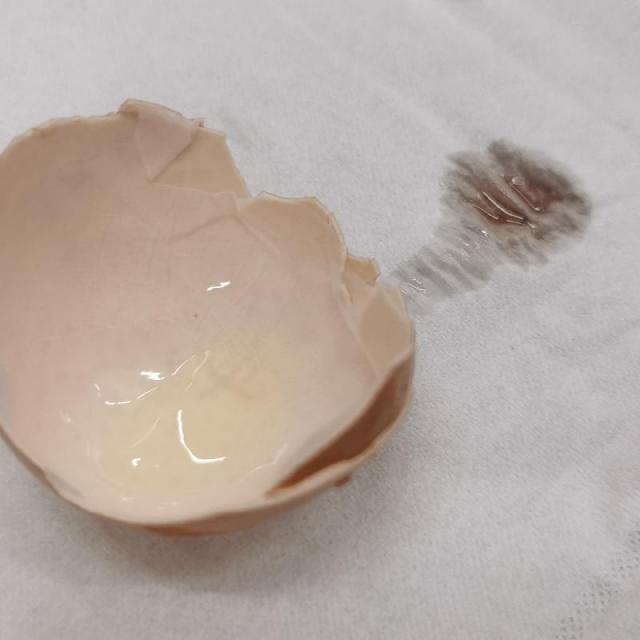egg shell: (5, 96, 417, 537)
